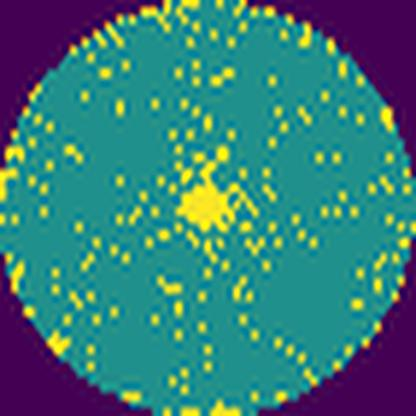Center: (172, 147, 242, 234)
